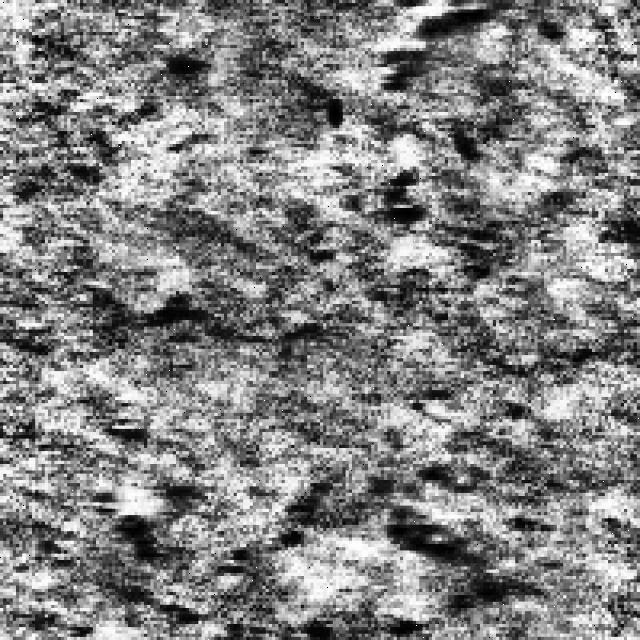Crazing: (3, 474, 323, 636), (378, 0, 506, 230), (374, 438, 518, 637)
